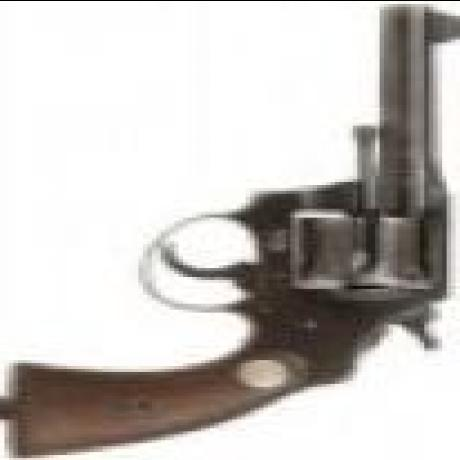weapon: (16, 4, 448, 454)
